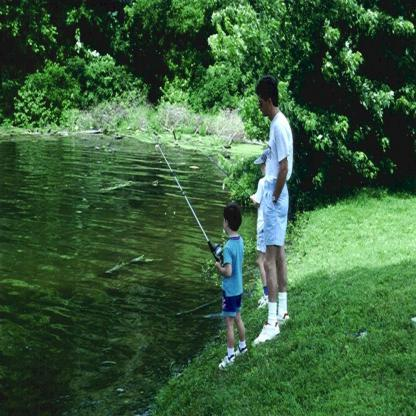face: (259, 96, 270, 117), (225, 218, 231, 233)
